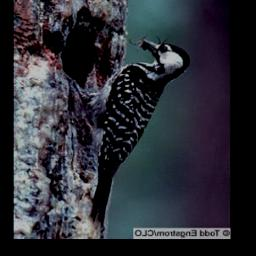Woodpecker: (77, 36, 192, 222)
